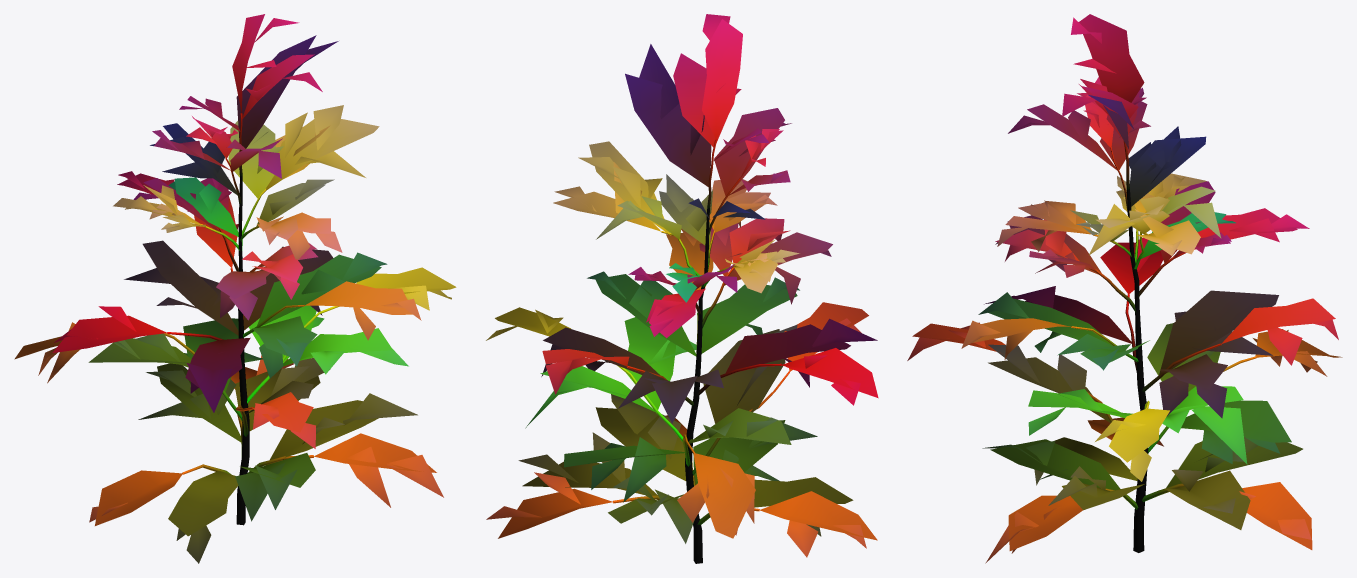
Rendered from SM_EuropeanBeech_S_02.fbx.
The picture shows the model from 3 angles, left to right: view 1: azimuth 30°, elevation 25°; view 2: azimuth 150°, elevation 25°; view 3: azimuth 270°, elevation 25°; orthographic projection. The views are drawn at different scales.
Visible parts, largest first — view 1: SM_EuropeanBeech_S_02_LOD0; view 2: SM_EuropeanBeech_S_02_LOD0; view 3: SM_EuropeanBeech_S_02_LOD0.
Boxes of the visible parts, box(x1,y1,x2,y2) form: SM_EuropeanBeech_S_02_LOD0: box(14, 14, 456, 563); SM_EuropeanBeech_S_02_LOD0: box(486, 14, 878, 563); SM_EuropeanBeech_S_02_LOD0: box(907, 14, 1342, 563).
Size of the model in its own units: 159 by 148 by 202.
